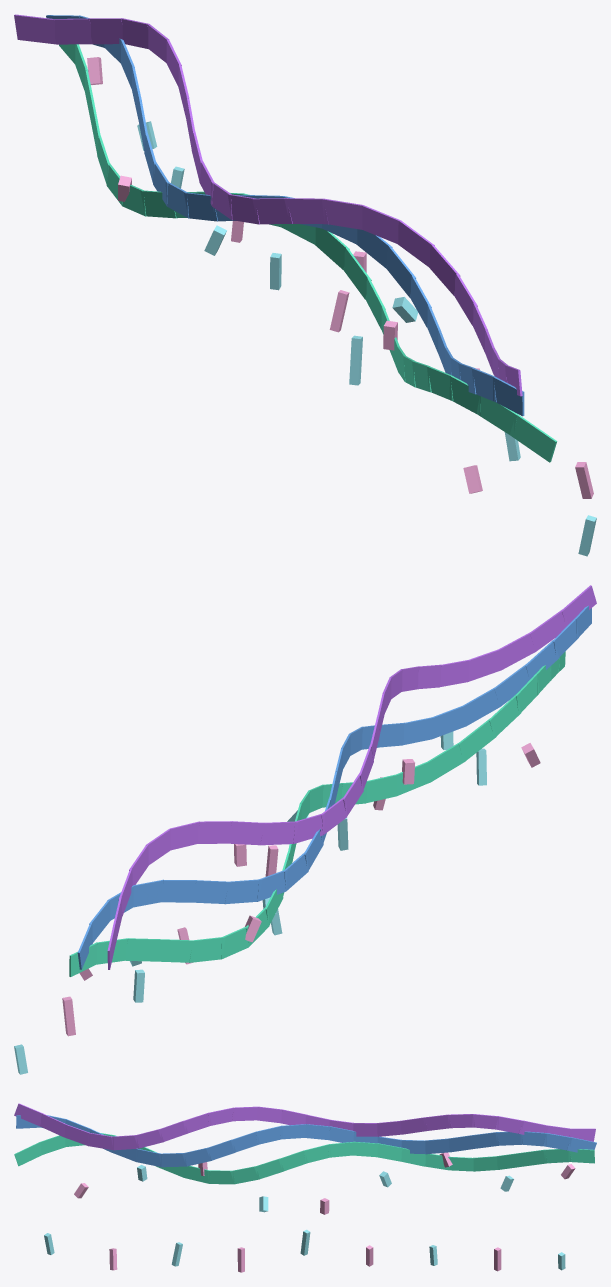
Rendered from cielo-alto_LadoIzq.glb.
3 views of the same model, one above another, from view 1: azimuth 30°, elevation 25°; view 2: azimuth 150°, elevation 25°; view 3: azimuth 270°, elevation 25° (orthographic). The views are drawn at different scales.
Parts seen in each view (by area): view 1: Mapa_cielo_alto_LadoIzq; view 2: Mapa_cielo_alto_LadoIzq; view 3: Mapa_cielo_alto_LadoIzq.
Part boxes in pixels (bbox=[...]): Mapa_cielo_alto_LadoIzq: bbox=[14, 14, 596, 556]; Mapa_cielo_alto_LadoIzq: bbox=[14, 585, 596, 1074]; Mapa_cielo_alto_LadoIzq: bbox=[14, 1103, 596, 1272].
Size of the model in its own units: 71.36 by 90.8 by 364.
Materials: 1 (1 with a texture image).
